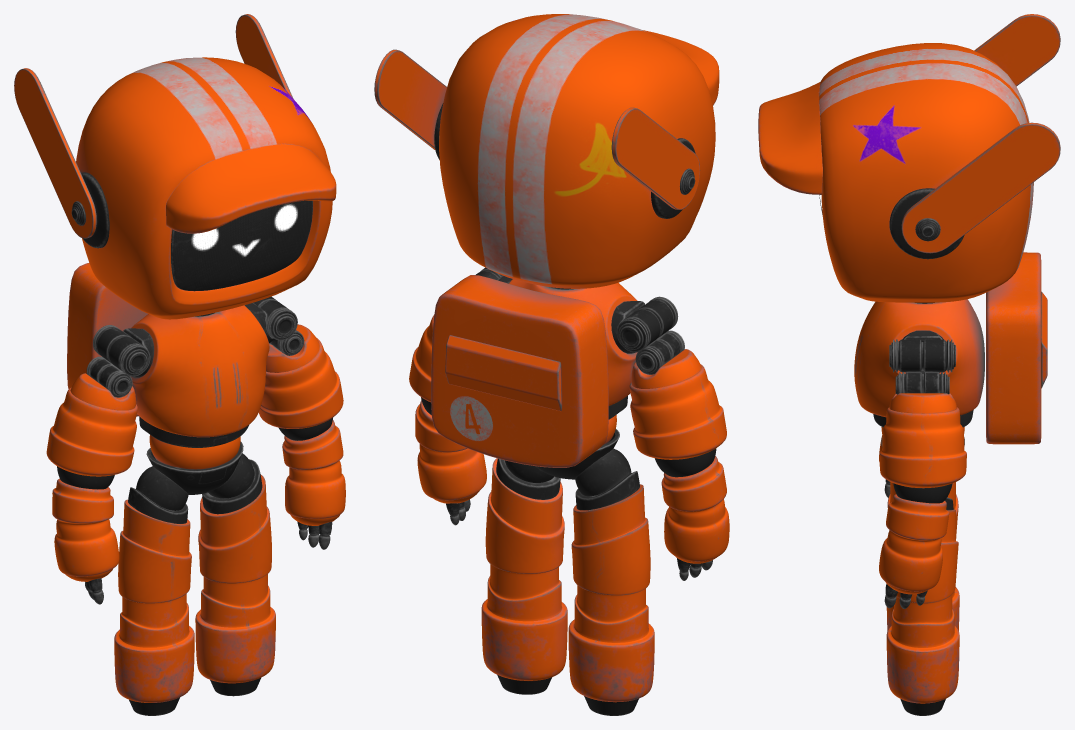
Rendered from robo-opt.glb.
The picture shows the model from 3 angles, left to right: view 1: azimuth 30°, elevation 25°; view 2: azimuth 150°, elevation 25°; view 3: azimuth 270°, elevation 25°; orthographic projection. The views are drawn at different scales.
Visible parts, largest first — view 1: head, legs_high, body, arms_high, arms_high.002, cap, screen, ears, bag, arm_joints, arms_high.003, Cube (+9 smaller); view 2: head, legs_high, bag, arms_high.002, ears, arms_high, bag.001, body, arm_joints, legs_high.001, Cube, arms_high.003 (+7 smaller); view 3: head, ears, bag, legs_high, body, arms_high, cap, arms_high.002, arm_joints, ears_part_1, arms_high.003, arm_joints_2 (+3 smaller).
Boxes of the visible parts, left/top/right/bottom form: head: left=76, top=57, right=332, bottom=319; legs_high: left=114, top=474, right=275, bottom=715; body: left=130, top=305, right=269, bottom=437; arms_high: left=46, top=338, right=343, bottom=476; arms_high.002: left=52, top=420, right=345, bottom=576; cap: left=166, top=144, right=336, bottom=233; screen: left=171, top=200, right=312, bottom=291; ears: left=14, top=14, right=293, bottom=238; bag: left=67, top=263, right=147, bottom=416; arm_joints: left=93, top=296, right=297, bottom=376; arms_high.003: left=70, top=324, right=319, bottom=410; Cube: left=136, top=453, right=254, bottom=510; head: left=439, top=14, right=715, bottom=288; legs_high: left=481, top=458, right=654, bottom=715; bag: left=431, top=275, right=608, bottom=467; arms_high.002: left=415, top=400, right=729, bottom=561; ears: left=374, top=49, right=700, bottom=209; arms_high: left=409, top=315, right=726, bottom=459; bag.001: left=445, top=335, right=561, bottom=411; body: left=509, top=279, right=637, bottom=405; arm_joints: left=476, top=267, right=678, bottom=352; legs_high.001: left=496, top=458, right=639, bottom=510; Cube: left=505, top=448, right=631, bottom=496; arms_high.003: left=631, top=349, right=701, bottom=388; head: left=819, top=43, right=1033, bottom=302; ears: left=901, top=14, right=1060, bottom=253; bag: left=986, top=252, right=1041, bottom=444; legs_high: left=886, top=482, right=959, bottom=715; body: left=854, top=299, right=984, bottom=417; arms_high: left=879, top=407, right=966, bottom=488; cap: left=758, top=82, right=822, bottom=194; arms_high.002: left=879, top=435, right=949, bottom=591; arm_joints: left=889, top=339, right=955, bottom=372; ears_part_1: left=889, top=188, right=964, bottom=259; arms_high.003: left=889, top=393, right=956, bottom=413; arm_joints_2: left=895, top=372, right=949, bottom=394.
Bounding box in the file's own units: 0.8117 × 1.69 × 0.7407.
Materials: 2 (2 with a texture image).
